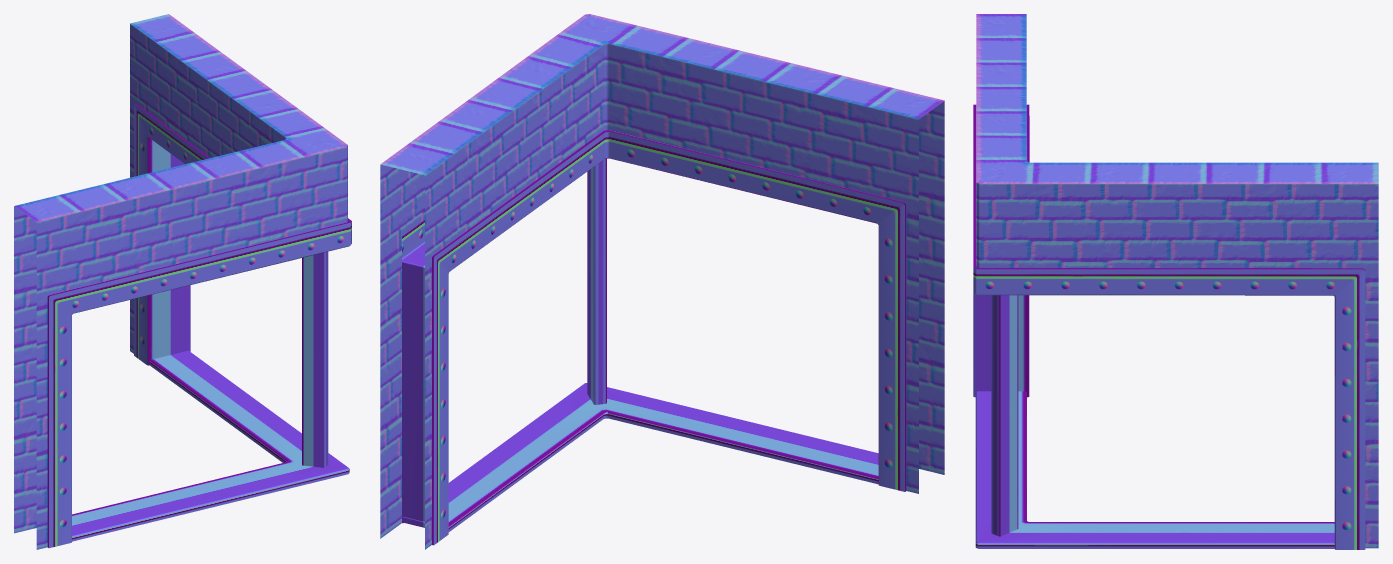
Rendered from sm_wall_corner_05.fbx.
3 renders of one model, left to right at view 1: azimuth 30°, elevation 25°; view 2: azimuth 150°, elevation 25°; view 3: azimuth 270°, elevation 25°, orthographic. The views are drawn at different scales.
Parts seen in each view (by area): view 1: sm_wall_corner_05; view 2: sm_wall_corner_05; view 3: sm_wall_corner_05.
Boxes of the visible parts, x1,y1,x2,y2 form: sm_wall_corner_05: (14,14,351,549); sm_wall_corner_05: (380,14,944,549); sm_wall_corner_05: (973,14,1378,549).
Bounding box in the file's own units: 404 × 400 × 403.
1 material, 1 textured.
